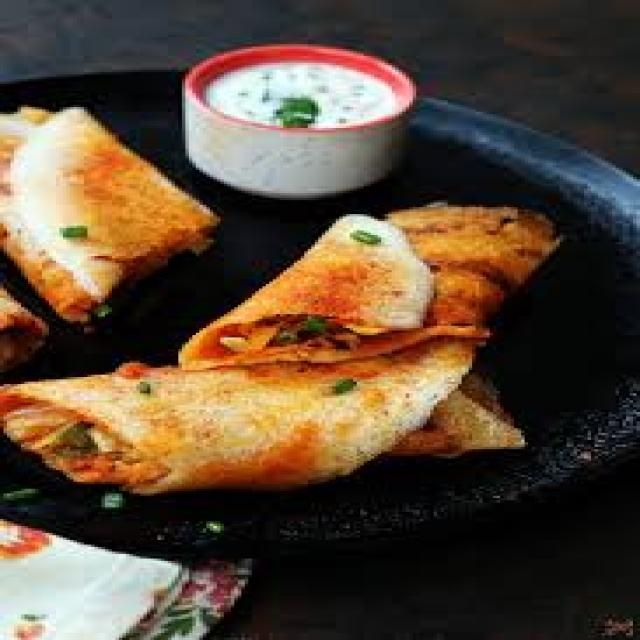DOSA: (6, 215, 547, 497), (1, 108, 216, 321)
